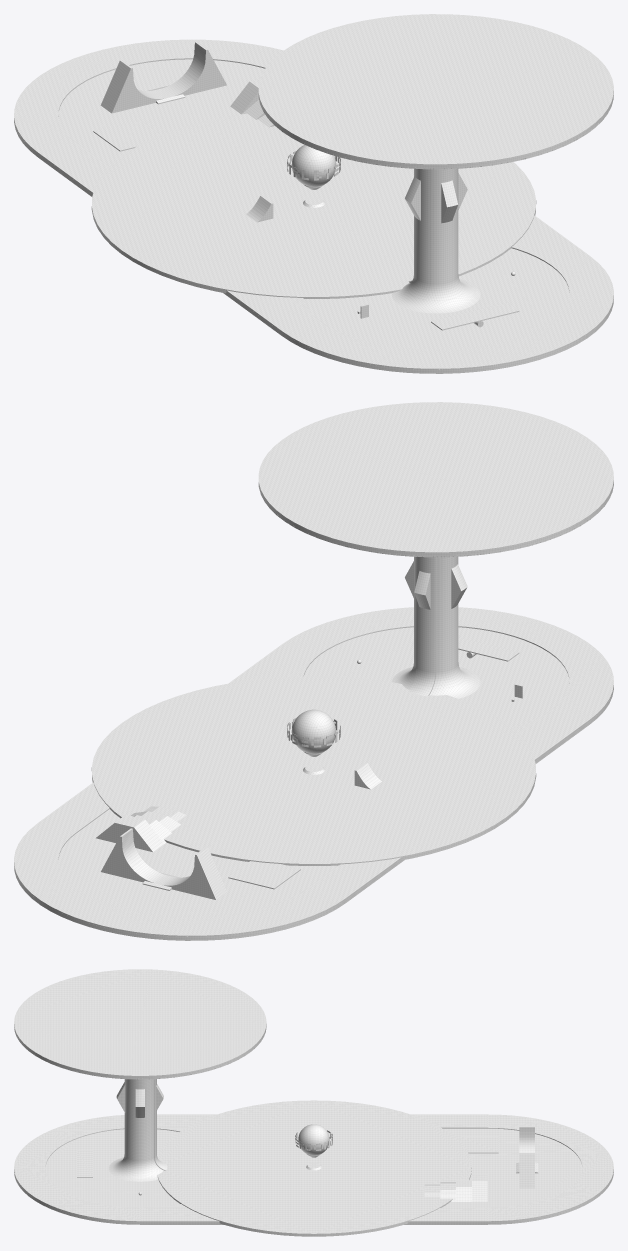
Rendered from testMap.glb.
The picture shows the model from 3 angles, top to bottom: view 1: azimuth 30°, elevation 25°; view 2: azimuth 150°, elevation 25°; view 3: azimuth 270°, elevation 25°; orthographic projection. The views are drawn at different scales.
Parts seen in each view (by area): view 1: R100Disk, R80Disk, Track, BaseFloor, Pillar10X100, RampU, R10Ball, PillarJumps, Box24X24, Seesaw, Ramp45, RampJump; view 2: R100Disk, R80Disk, Track, BaseFloor, Pillar10X100, RampU, R10Ball, Ramp45, Box24X24, PillarJumps, Seesaw; view 3: R100Disk, R80Disk, Track, BaseFloor, Pillar10X100, RampU, R10Ball, Box24X24, PillarJumps, Ramp45, Seesaw.
Boxes of the visible parts, x1,y1,x2,y2 form: R100Disk: [91, 113, 536, 298]; R80Disk: [258, 14, 613, 168]; Track: [14, 39, 613, 369]; BaseFloor: [14, 59, 613, 373]; Pillar10X100: [392, 168, 480, 313]; RampU: [100, 41, 226, 113]; R10Ball: [291, 145, 336, 186]; PillarJumps: [405, 173, 467, 223]; Box24X24: [93, 120, 160, 151]; Seesaw: [431, 303, 519, 330]; Ramp45: [230, 79, 259, 114]; RampJump: [246, 195, 273, 222]; R100Disk: [91, 676, 536, 865]; R80Disk: [258, 402, 613, 556]; Track: [14, 485, 613, 936]; BaseFloor: [14, 627, 613, 940]; Pillar10X100: [392, 556, 480, 698]; RampU: [101, 828, 226, 899]; R10Ball: [291, 709, 336, 753]; Ramp45: [96, 814, 163, 851]; Box24X24: [228, 861, 300, 889]; PillarJumps: [405, 561, 467, 609]; Seesaw: [458, 637, 519, 661]; R100Disk: [157, 1100, 471, 1236]; R80Disk: [14, 969, 266, 1078]; Track: [14, 1027, 613, 1221]; BaseFloor: [14, 1128, 613, 1224]; Pillar10X100: [108, 1079, 163, 1181]; RampU: [516, 1126, 538, 1188]; R10Ball: [298, 1124, 329, 1155]; Box24X24: [461, 1136, 498, 1153]; PillarJumps: [116, 1082, 163, 1117]; Ramp45: [472, 1174, 487, 1201]; Seesaw: [77, 1150, 92, 1177].
Size of the model in its own units: 200 by 111 by 380.
Materials: 1 (1 with a texture image).
